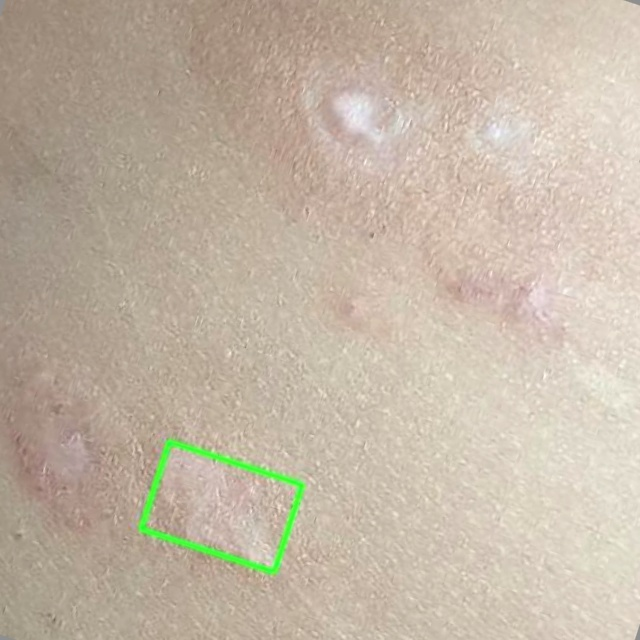Eczema: (141, 441, 302, 571)
